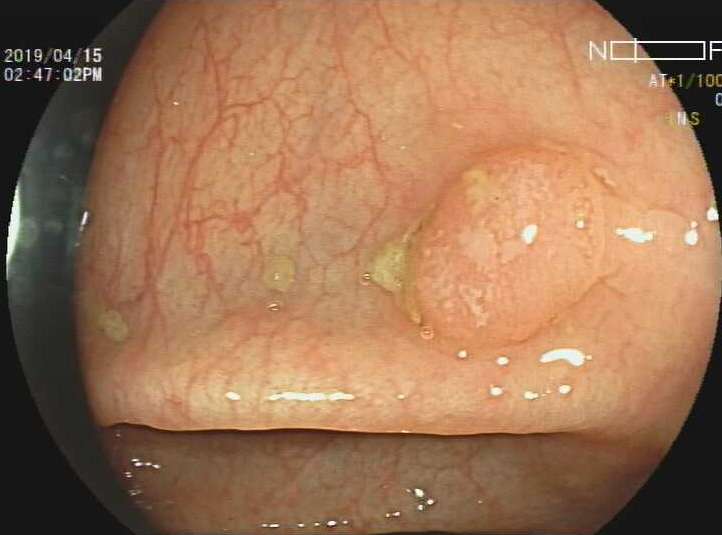adenoma: (400, 141, 611, 355)
